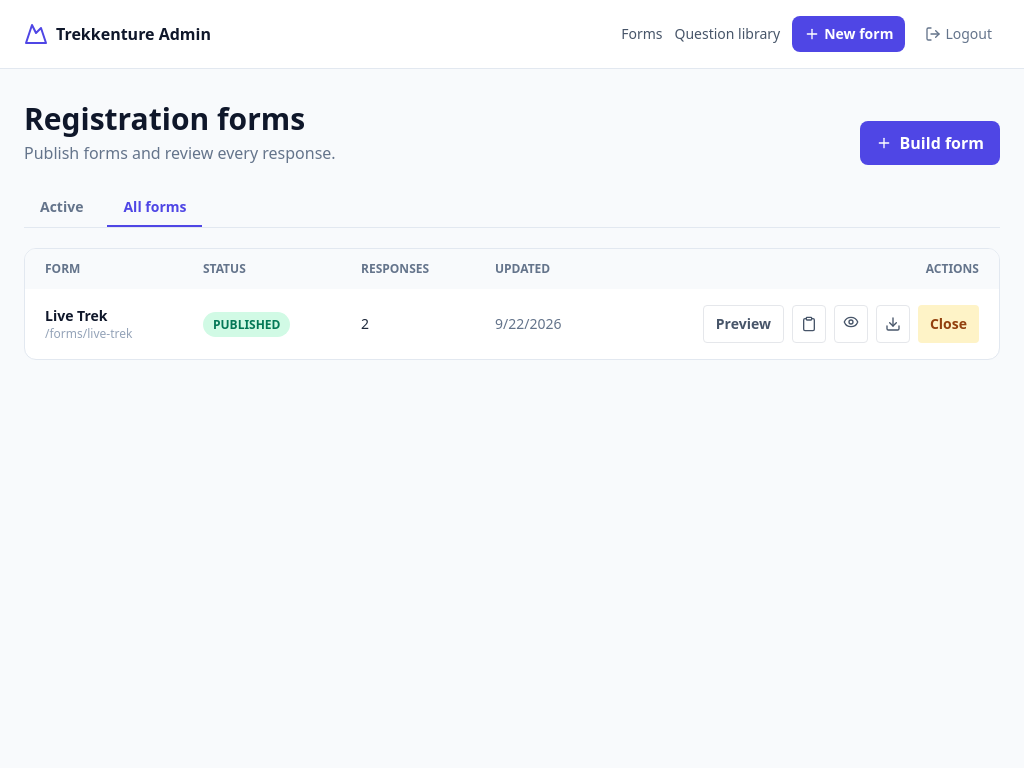
Test: application integration › closes an active form and can log out
The width and height of the screenshot is (1024, 768).
Click the button "Active" at (62,208), box [24, 189, 100, 227]
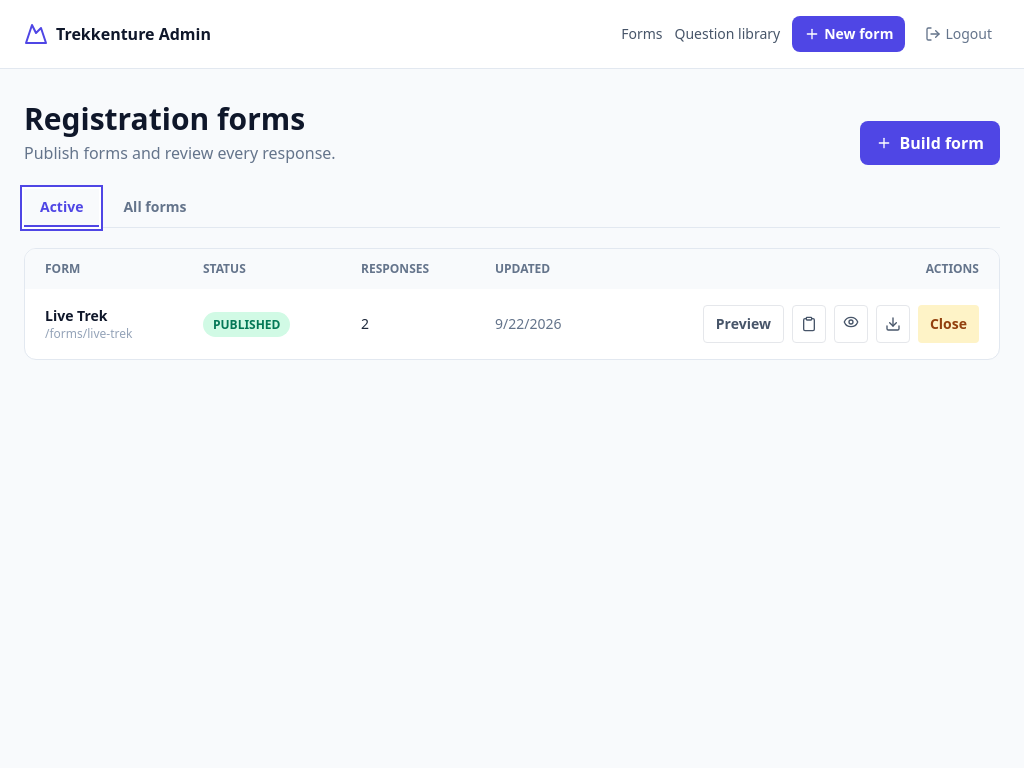
Click the button "Close" at (948,324), box [918, 305, 979, 343]
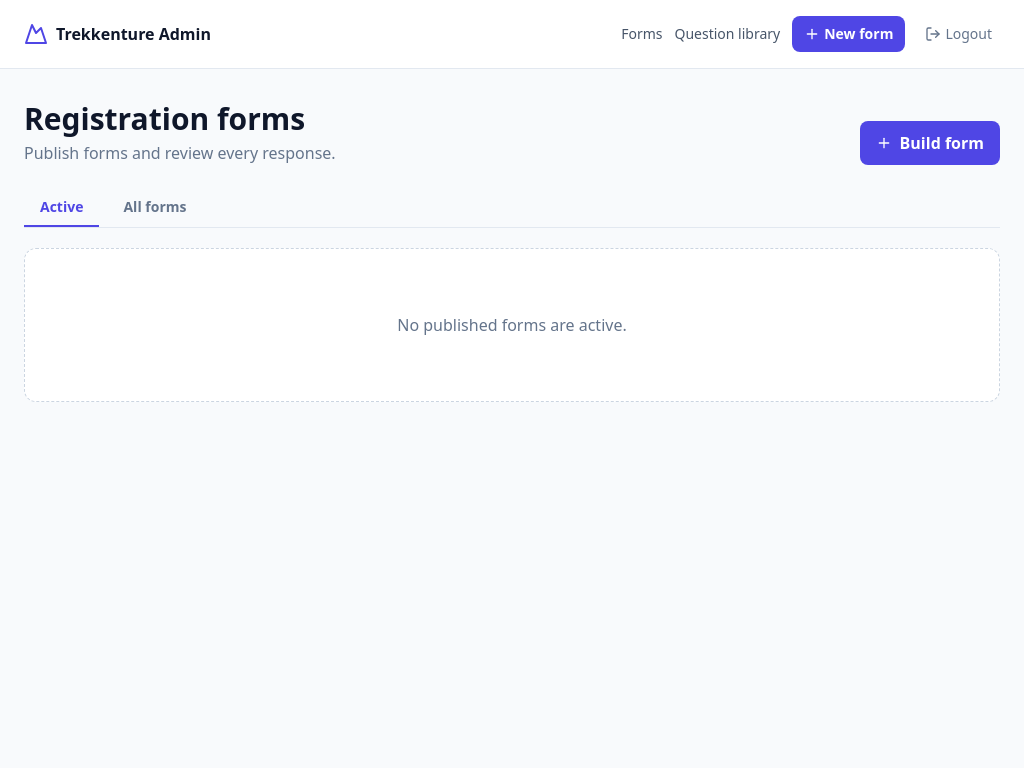
Result: the text "No published forms are active." is shown at [24, 248, 1000, 402]
Click the button "Logout" at (959,34), box [917, 16, 1000, 52]
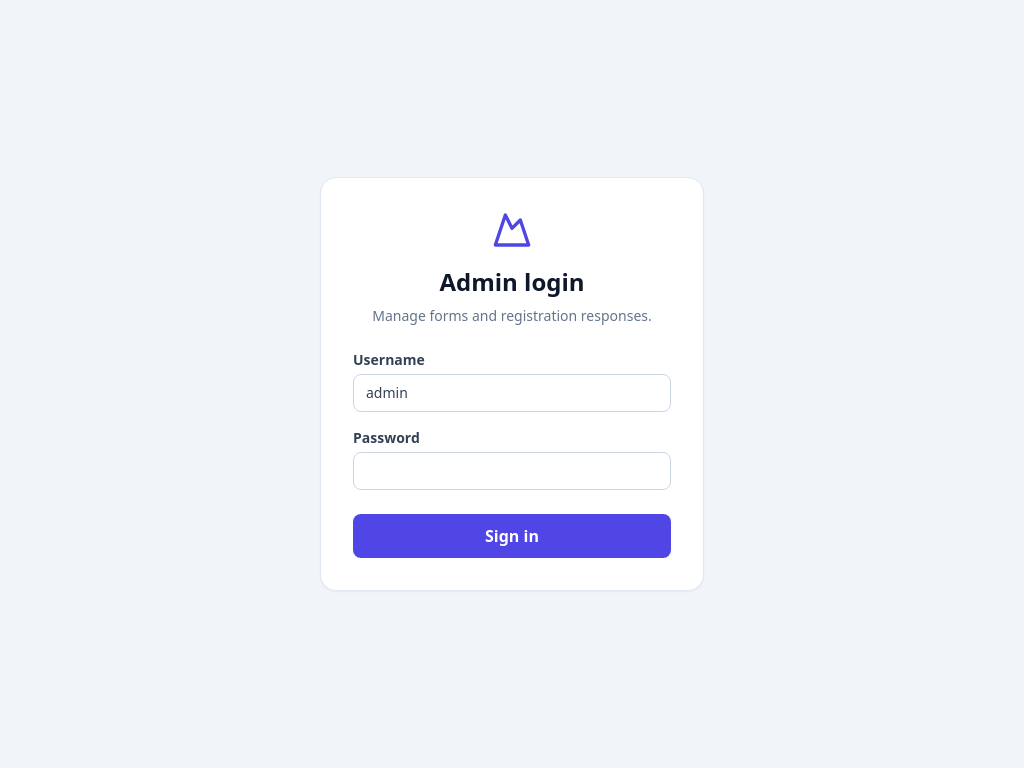
Result: the heading "Admin login" is shown at [439, 265, 584, 298]
